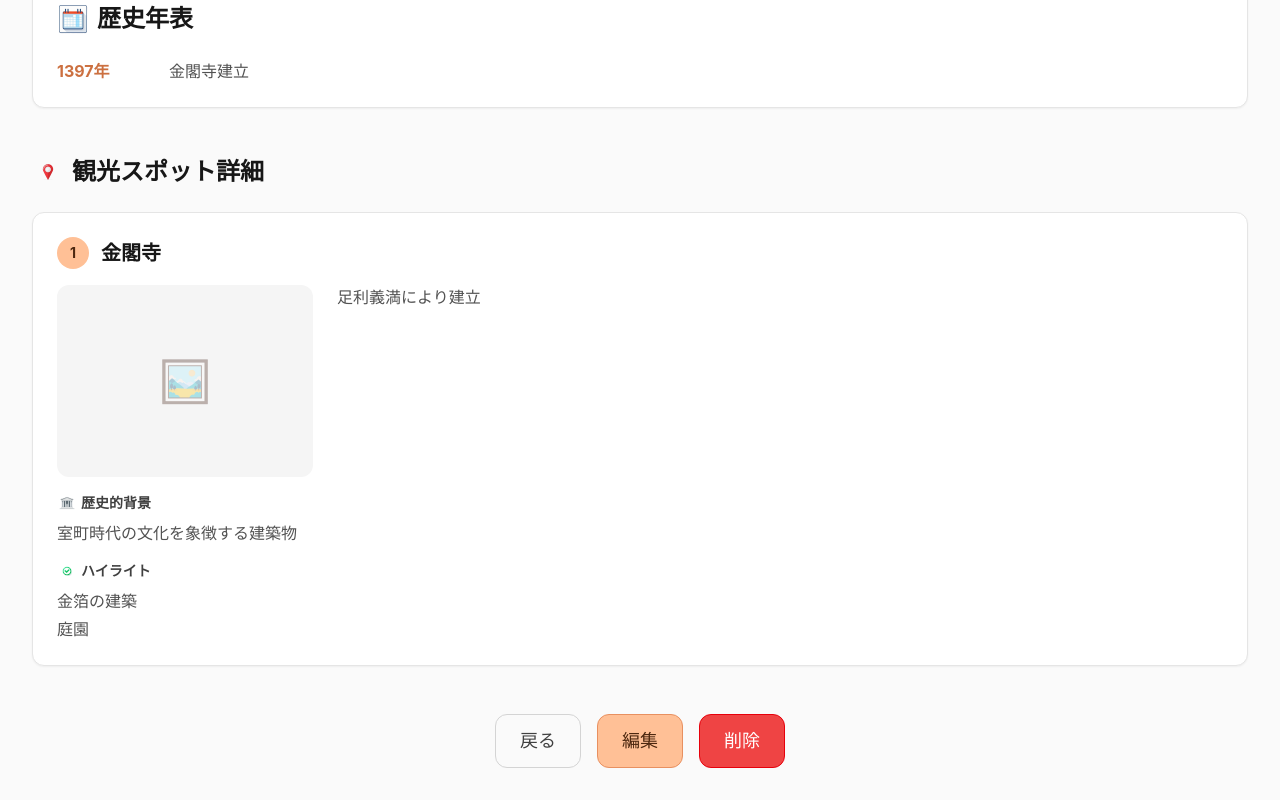
Test case: TravelGuidePage › エラー状態 › 削除API失敗時はエラーダイアログが表示される
(page scrolled)
Click the button "削除".
click(742, 741)  # box [699,714,785,768]
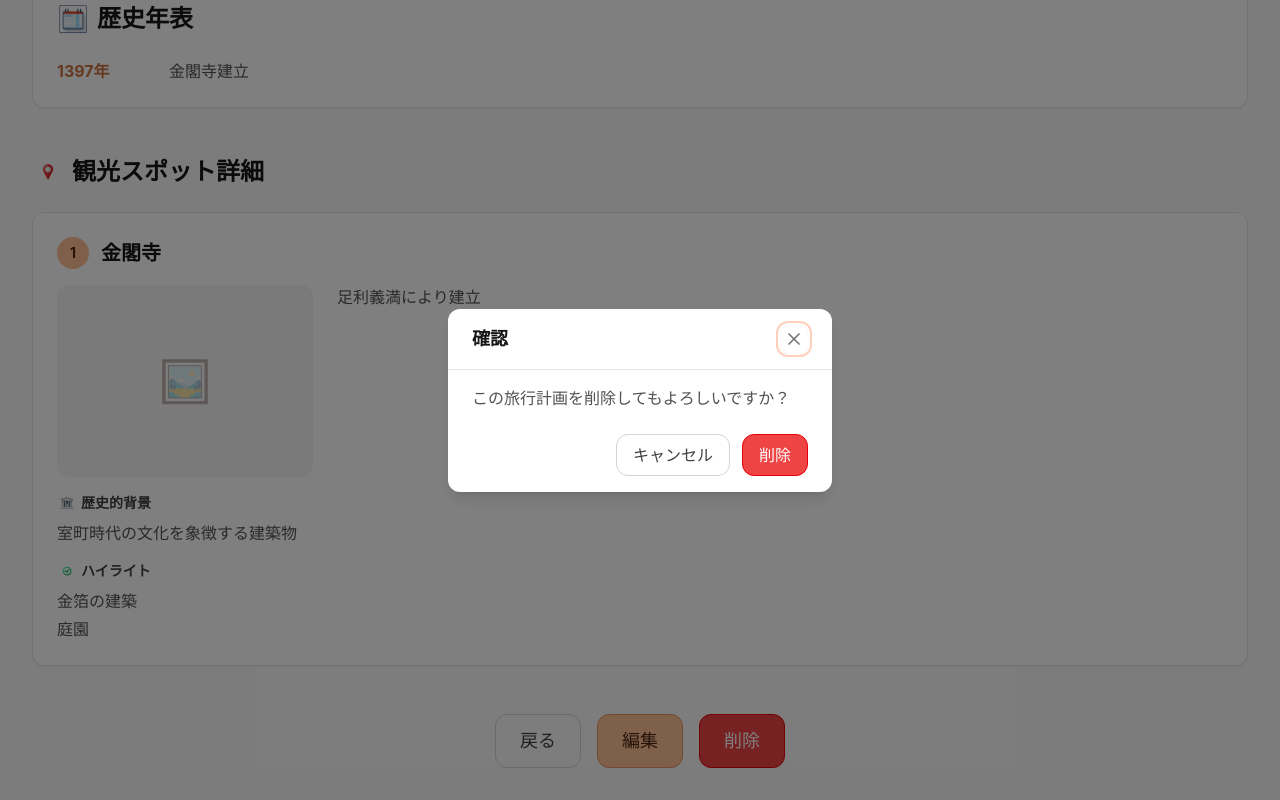
Expected: the text "この旅行計画を削除してもよろしいですか？" is shown, [472,386,808,410]
Click the button "削除".
click(775, 454)  # box [742,434,808,476]
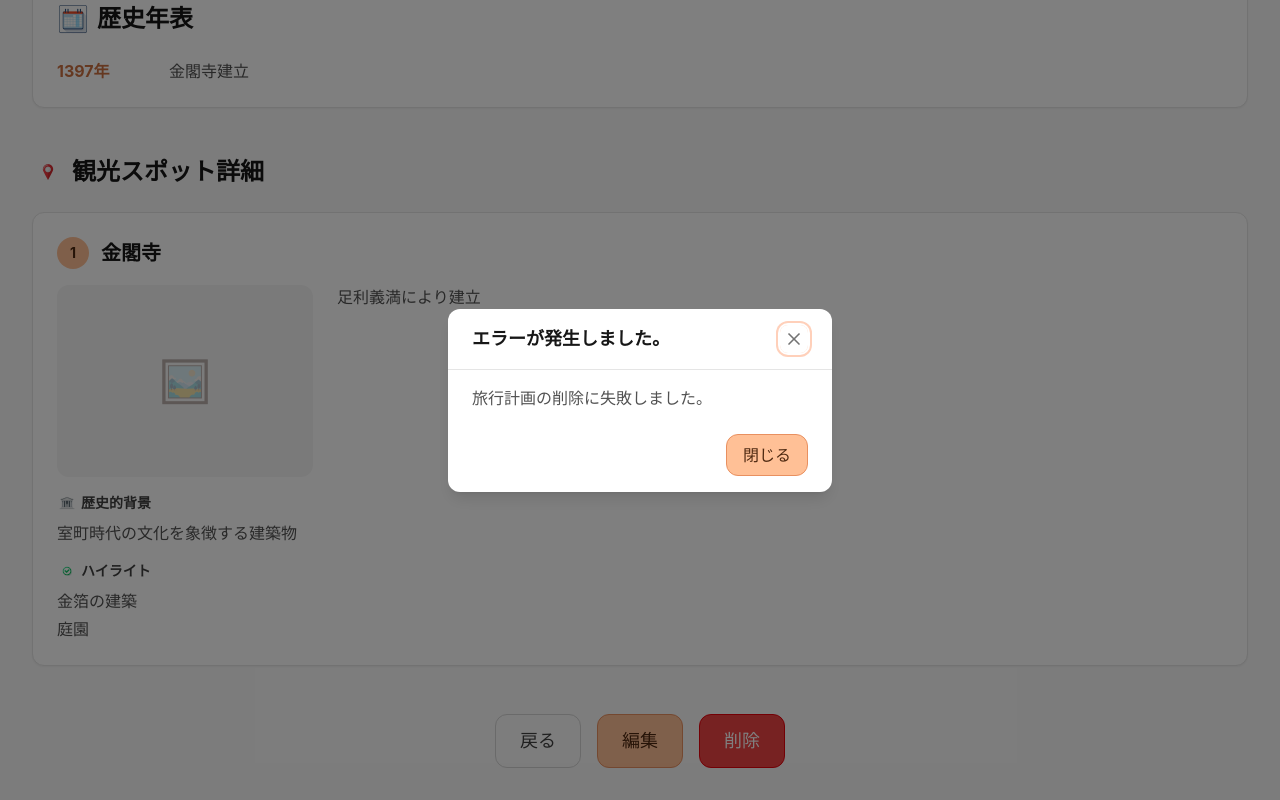
Expected: the text "旅行計画の削除に失敗しました。" is shown, [472,388,712,408]
